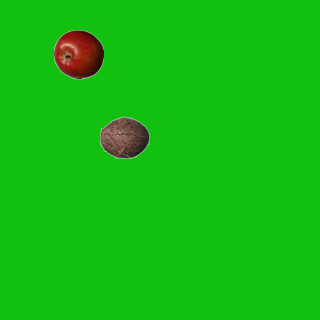Apple Braeburn: (53, 29, 103, 79)
Cocos: (99, 112, 149, 162)
